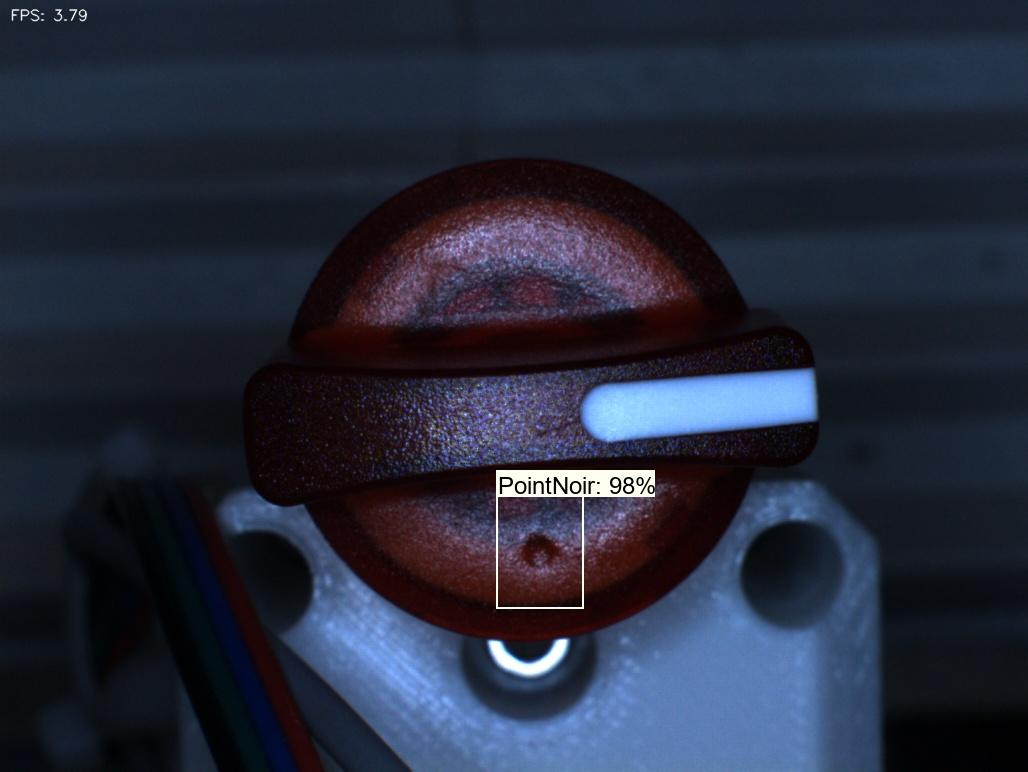Choc: (503, 517, 582, 593)
